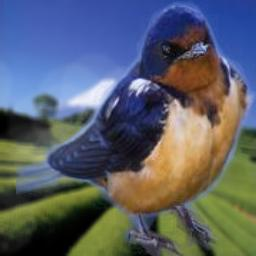Swallow: (16, 0, 256, 256)
